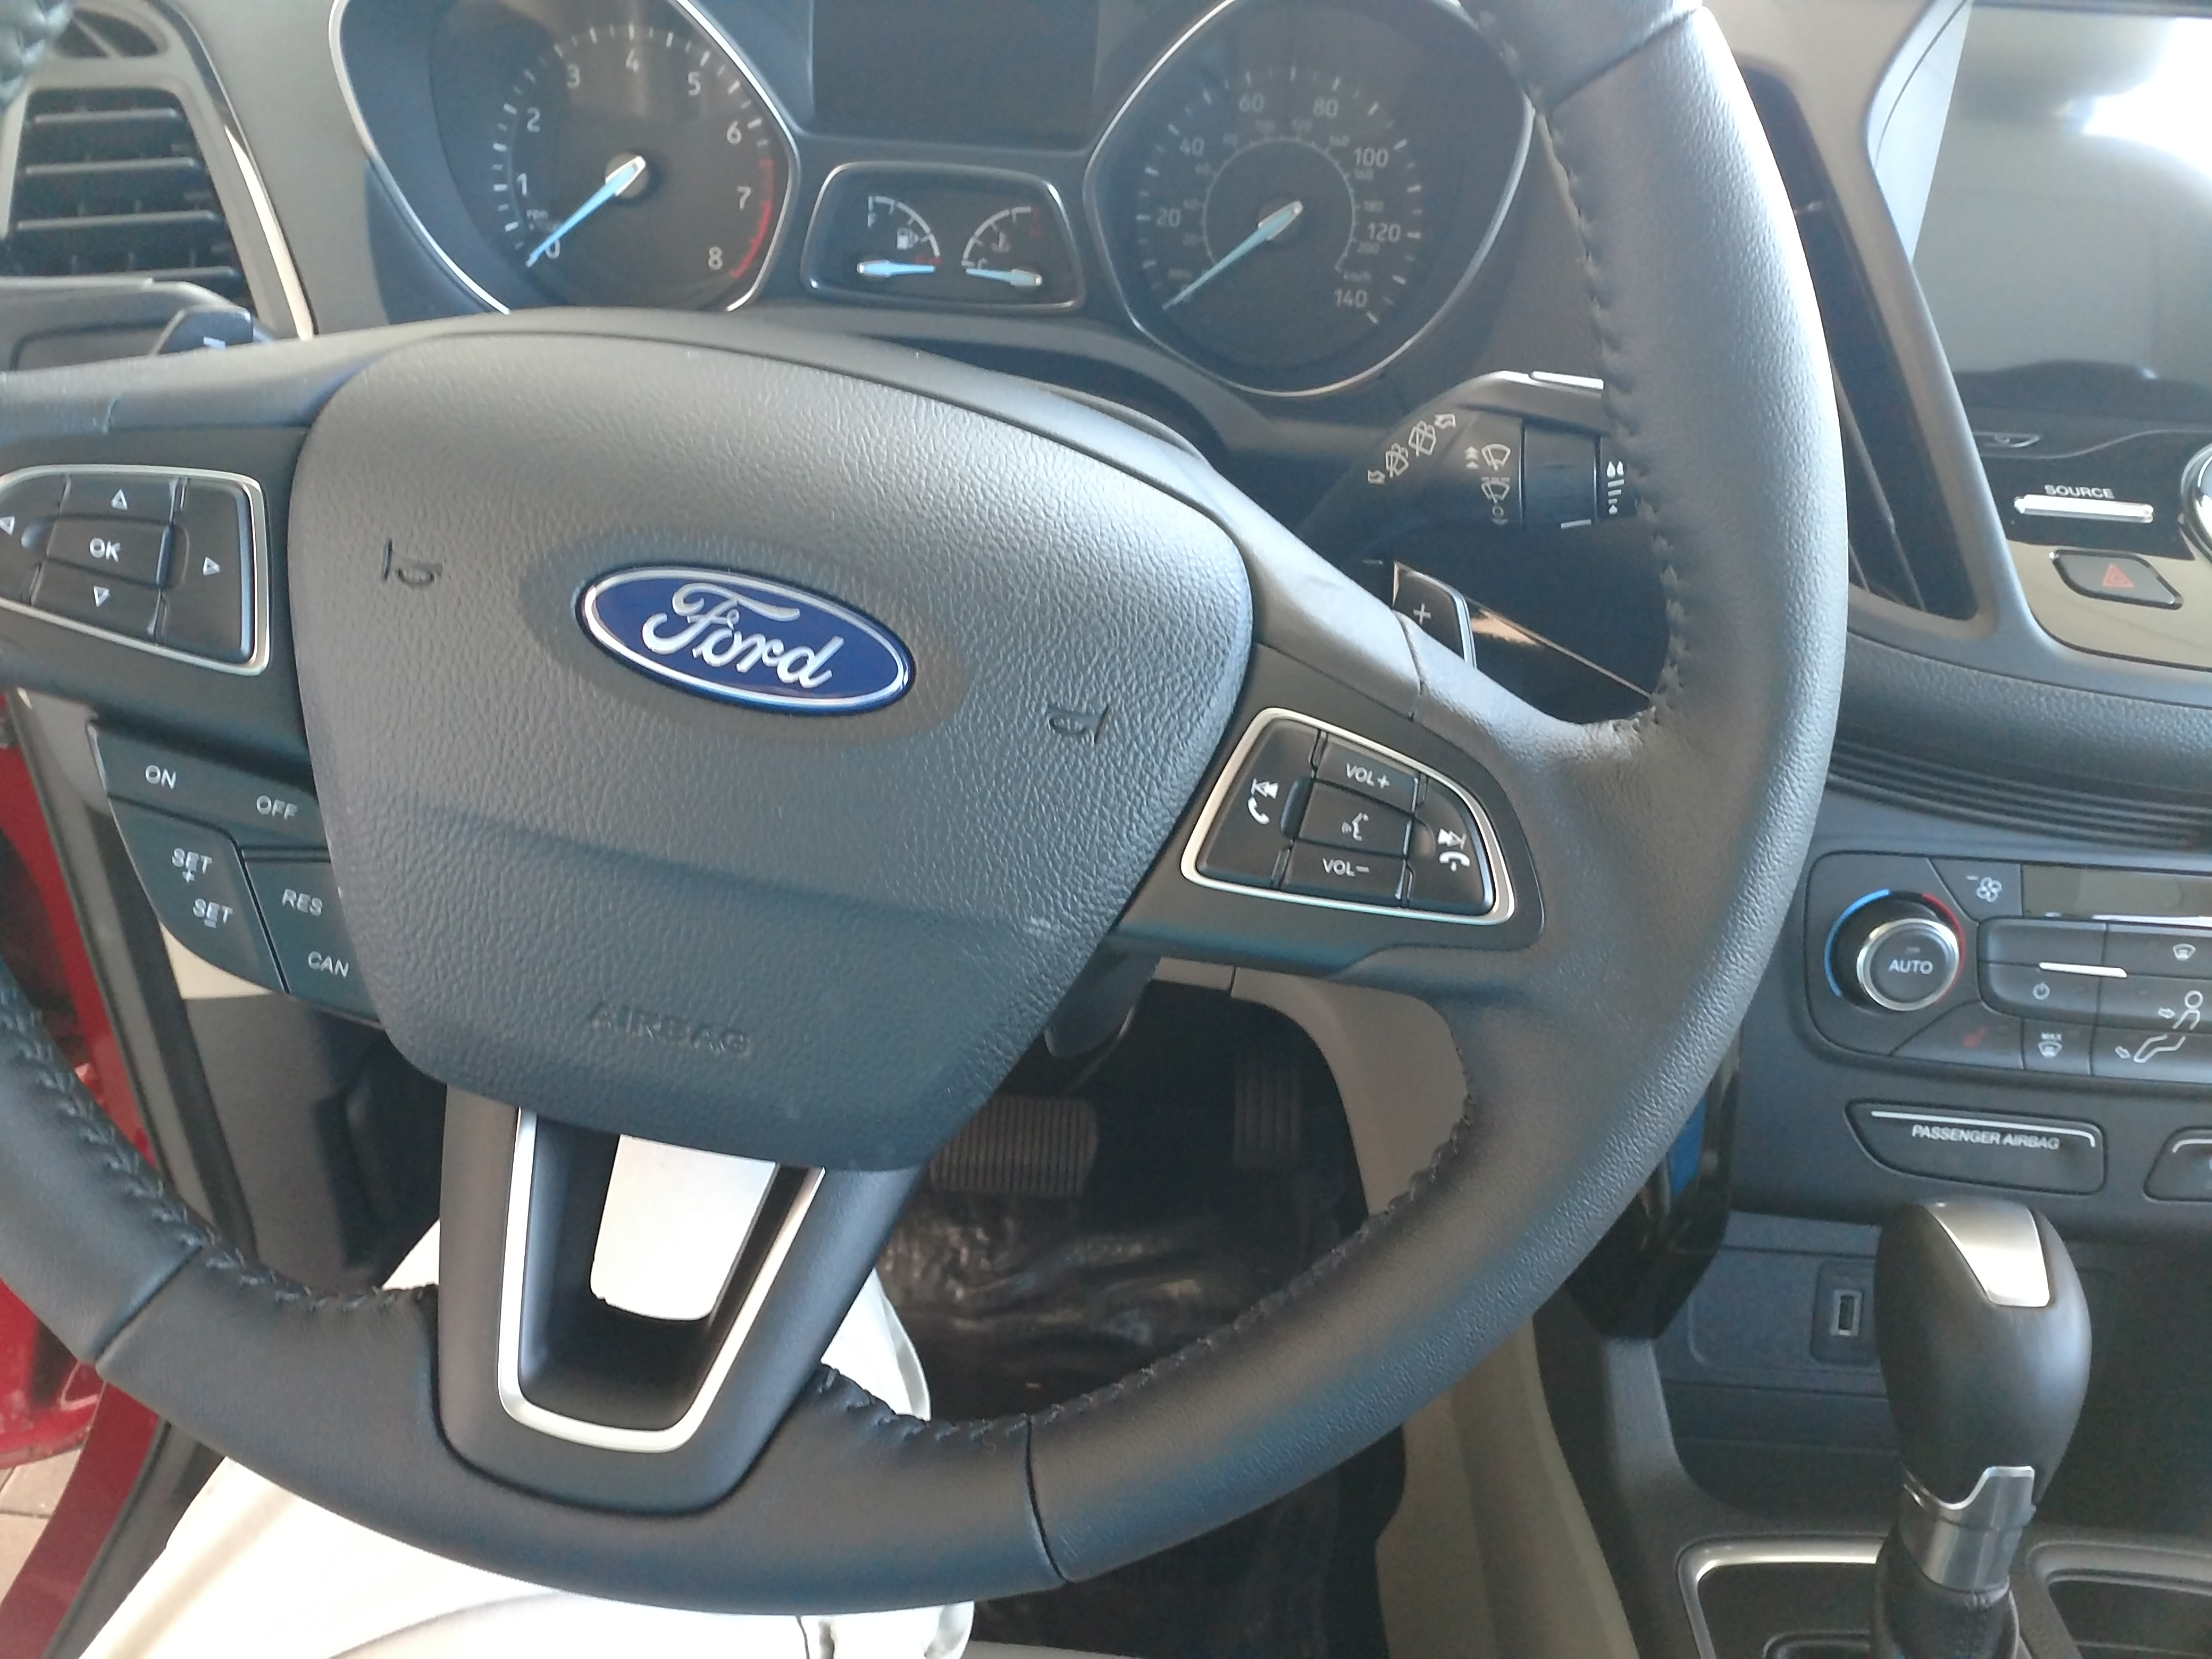Ford: (566, 551, 942, 723)
